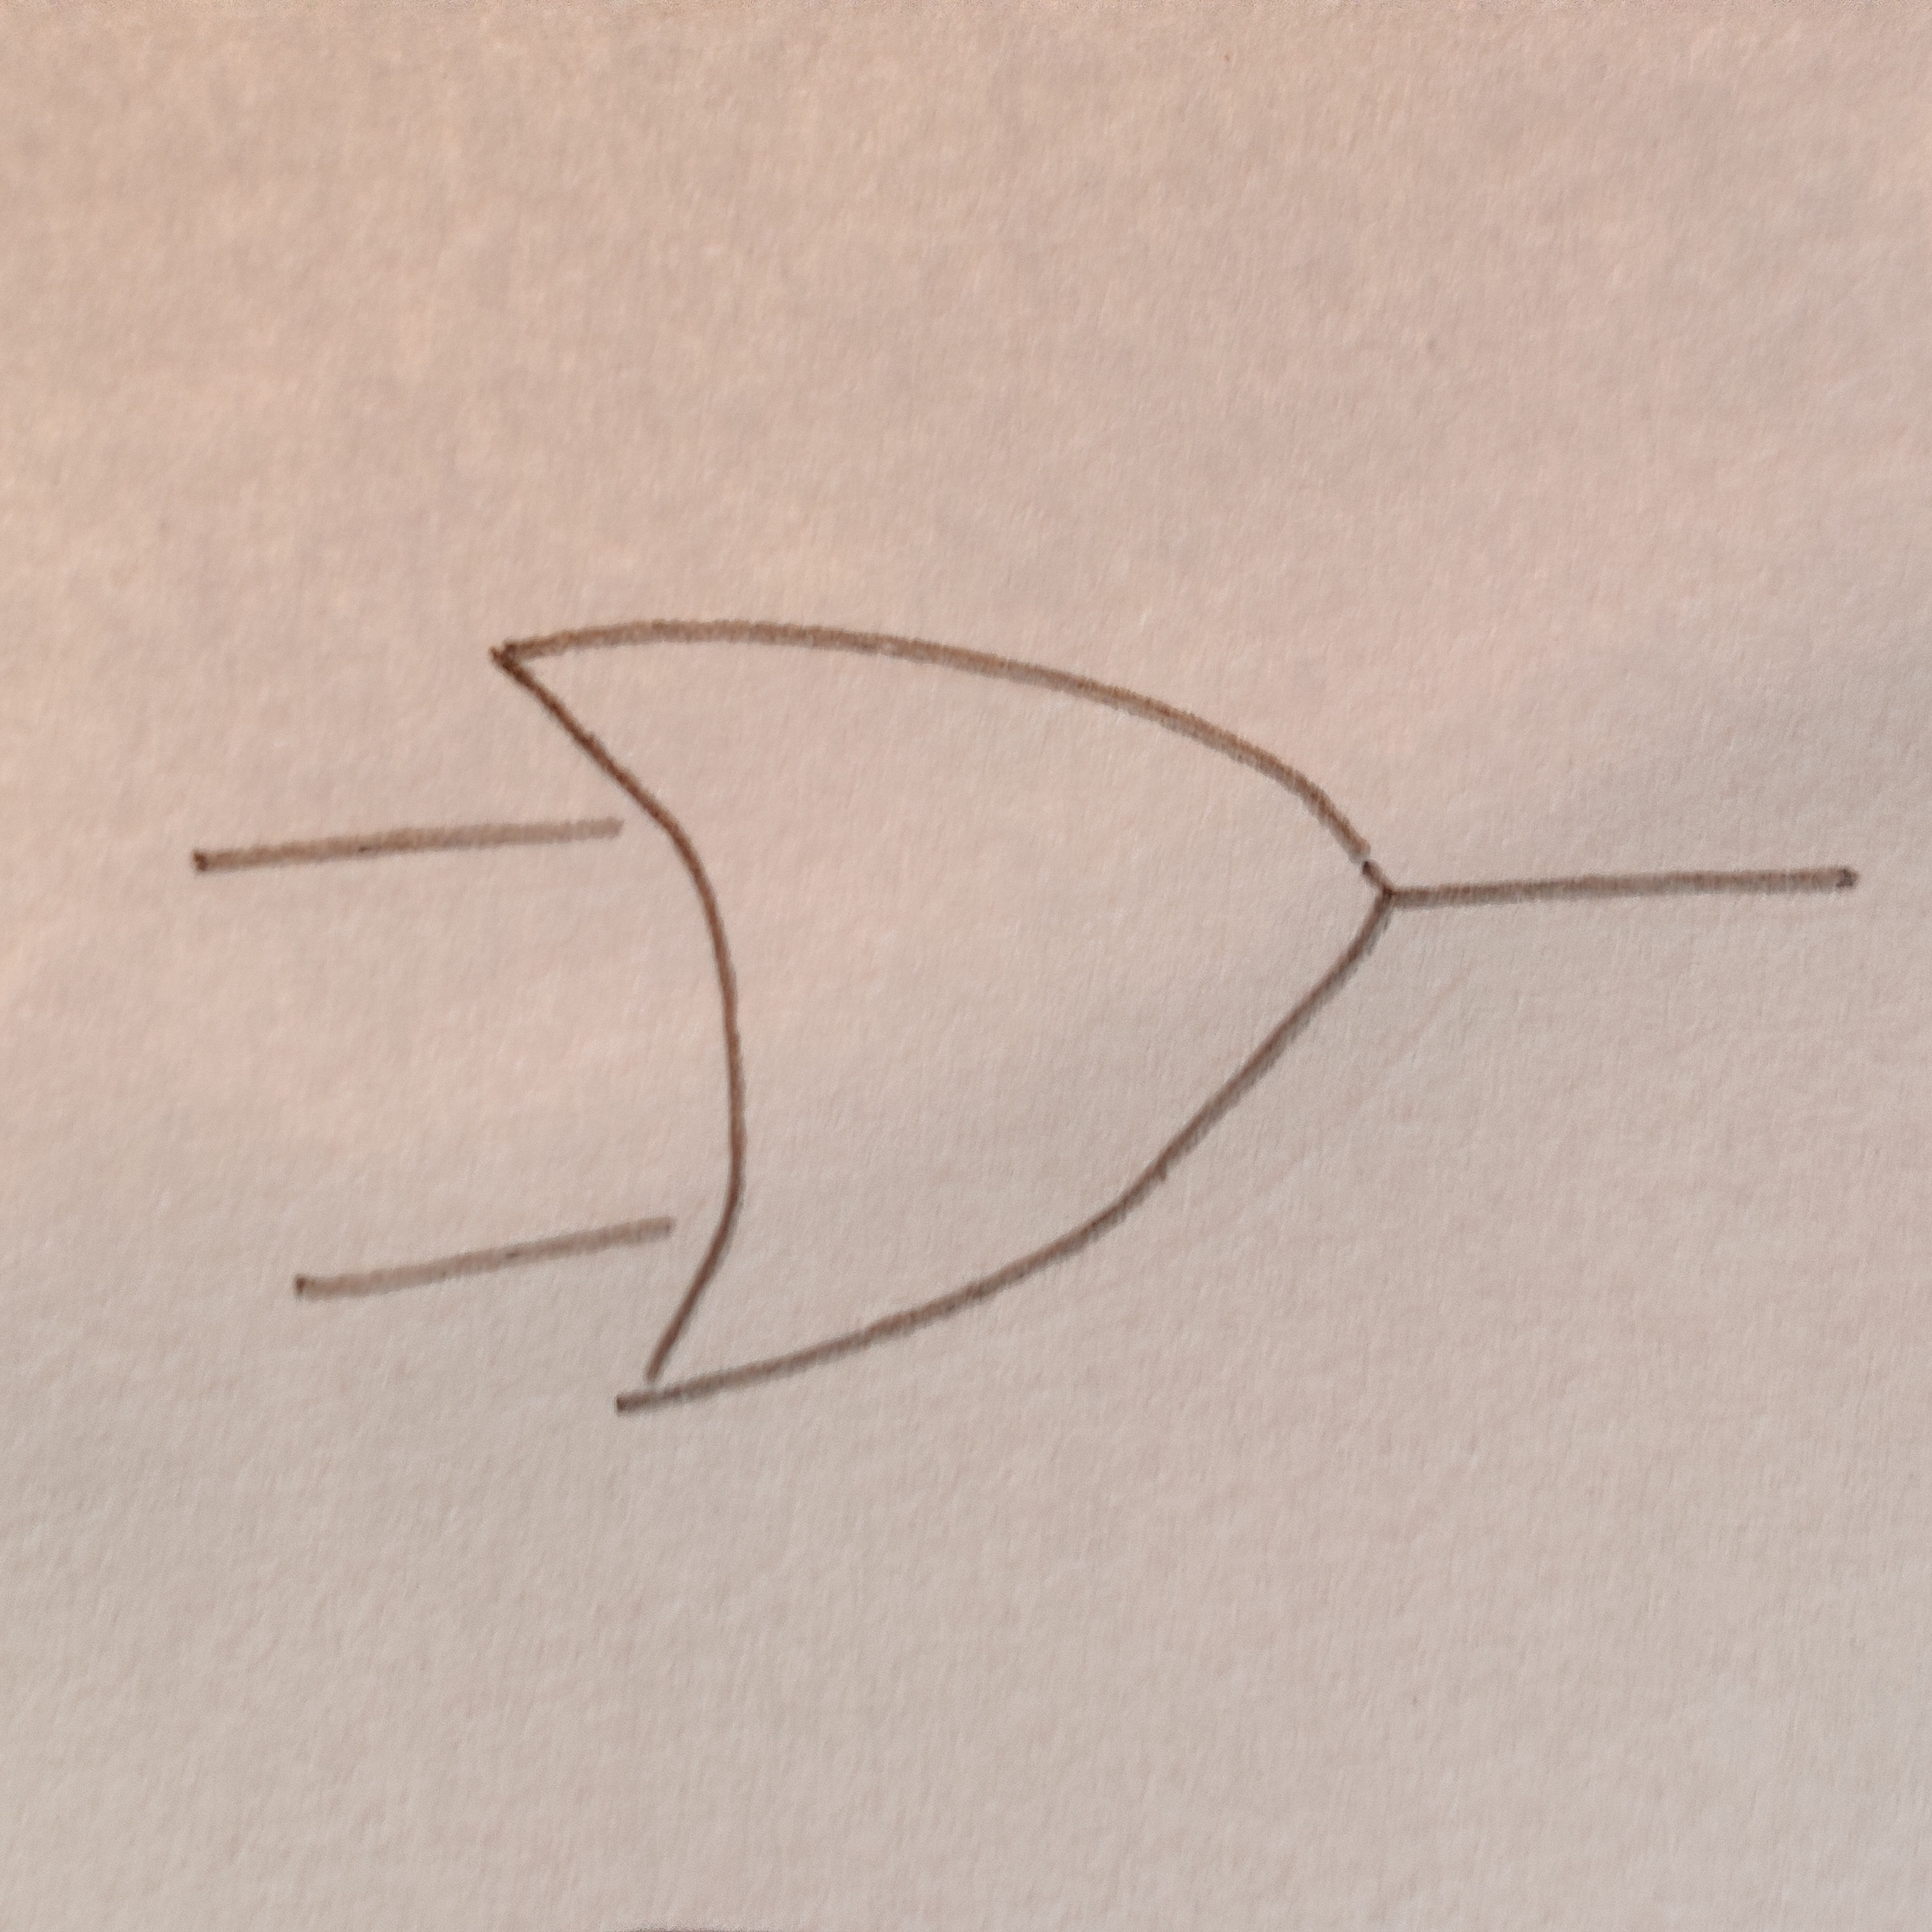or: (495, 628, 1389, 1401)
